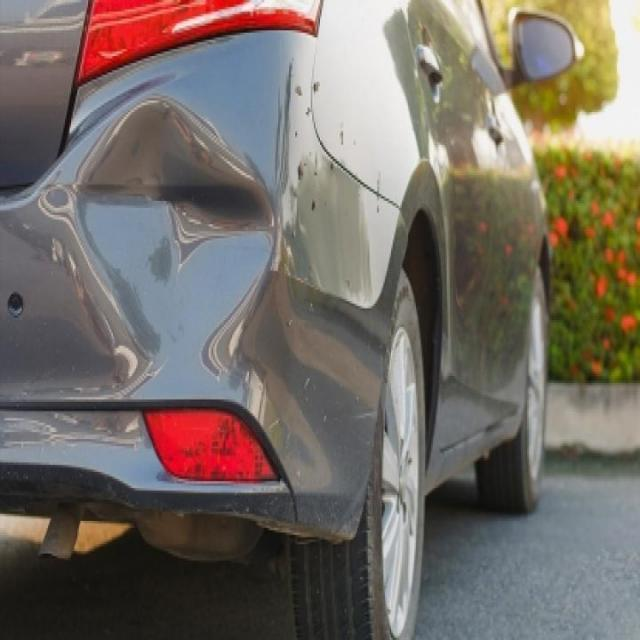dent: (71, 100, 276, 356)
